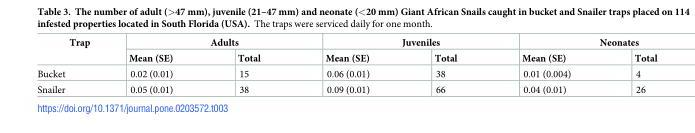table: (36, 37, 656, 94)
table column: (488, 37, 602, 94), (292, 37, 401, 94), (108, 37, 204, 94), (204, 37, 292, 94), (401, 37, 488, 94), (36, 37, 108, 94), (602, 37, 656, 94)
table column header: (36, 37, 656, 65)
table row: (36, 65, 656, 81), (36, 50, 656, 65), (36, 37, 656, 50), (36, 81, 656, 94)
table spanning cell: (292, 37, 488, 50), (108, 37, 292, 50), (488, 37, 656, 50), (36, 37, 108, 65)
